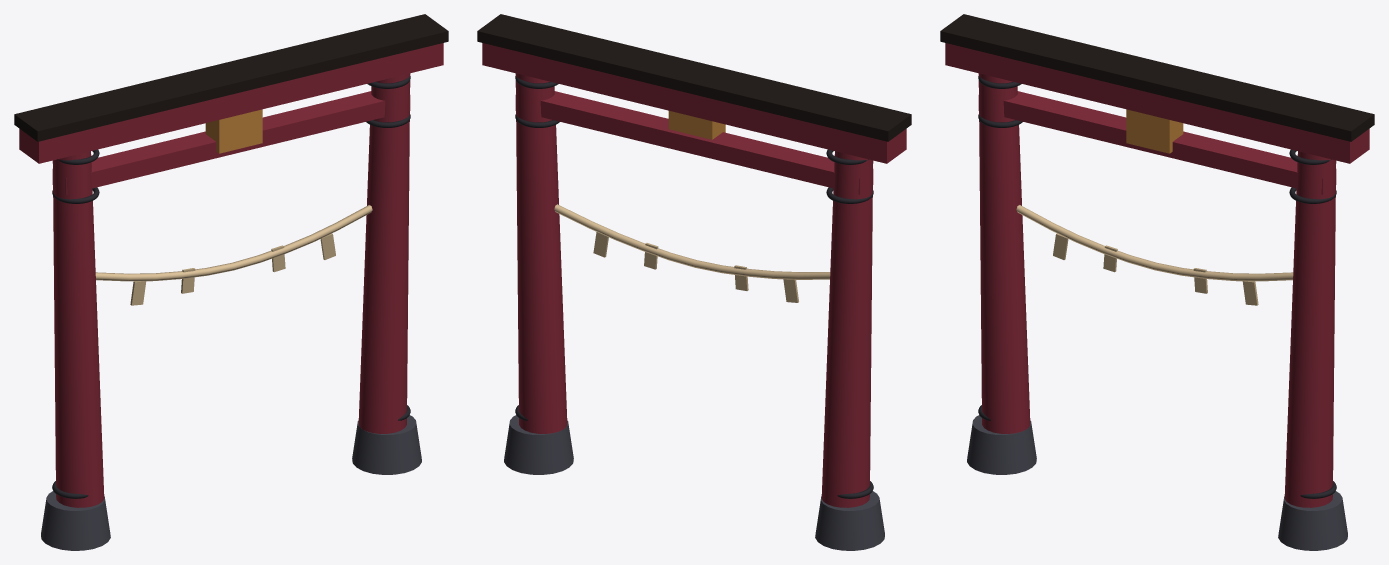
File: mia-path_gate.glb
3 views of the same model, side by side, from view 1: azimuth 30°, elevation 25°; view 2: azimuth 150°, elevation 25°; view 3: azimuth 330°, elevation 25° (orthographic).
Parts seen in each view (by area): view 1: Body_velvet, Body_black, Body_stone, Body_ivory, Body_brass, Body_iron, Body_canvas; view 2: Body_velvet, Body_black, Body_stone, Body_ivory, Body_iron, Body_canvas, Body_brass; view 3: Body_velvet, Body_black, Body_stone, Body_ivory, Body_brass, Body_iron, Body_canvas.
Part boxes in pixels (<box>): Body_velvet: <box>19,43,443,507</box>; Body_black: <box>14,14,448,141</box>; Body_stone: <box>41,415,421,550</box>; Body_ivory: <box>95,205,372,281</box>; Body_brass: <box>205,109,262,153</box>; Body_iron: <box>52,76,410,498</box>; Body_canvas: <box>130,233,335,305</box>; Body_velvet: <box>482,43,906,507</box>; Body_black: <box>477,14,911,141</box>; Body_stone: <box>504,415,884,550</box>; Body_ivory: <box>554,204,830,279</box>; Body_iron: <box>515,76,873,498</box>; Body_canvas: <box>593,232,798,302</box>; Body_brass: <box>668,111,725,139</box>; Body_velvet: <box>945,43,1369,507</box>; Body_black: <box>940,14,1374,141</box>; Body_stone: <box>967,415,1347,550</box>; Body_ivory: <box>1016,205,1293,281</box>; Body_brass: <box>1126,109,1183,153</box>; Body_iron: <box>978,76,1336,498</box>; Body_canvas: <box>1053,233,1258,305</box>.
Size of the model in its own units: 2.64 by 2.61 by 0.392.
